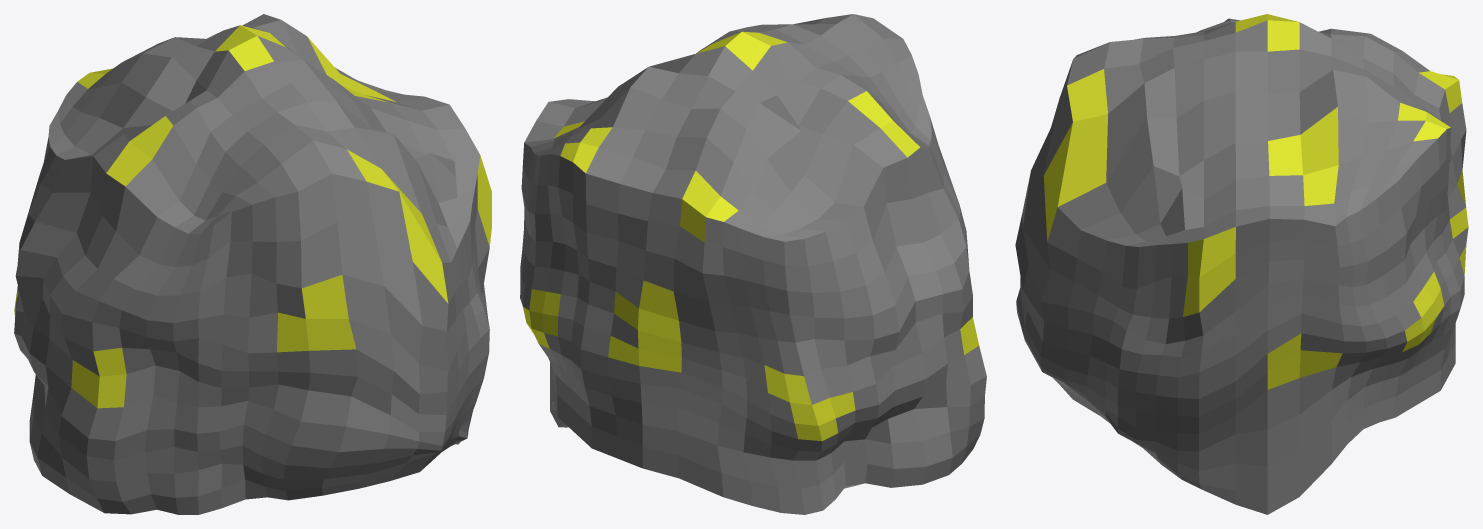
File: SulfureStone.fbx
3 renders of one model, left to right at view 1: azimuth 30°, elevation 25°; view 2: azimuth 150°, elevation 25°; view 3: azimuth 270°, elevation 25°, orthographic. The views are drawn at different scales.
Visible parts, largest first — view 1: stone_sulfur; view 2: stone_sulfur; view 3: stone_sulfur.
Part boxes in pixels (x1,y1,x2,y2): stone_sulfur: [14, 14, 491, 514]; stone_sulfur: [520, 14, 986, 514]; stone_sulfur: [1015, 14, 1468, 514].
Size of the model in its own units: 352 by 358 by 355.
